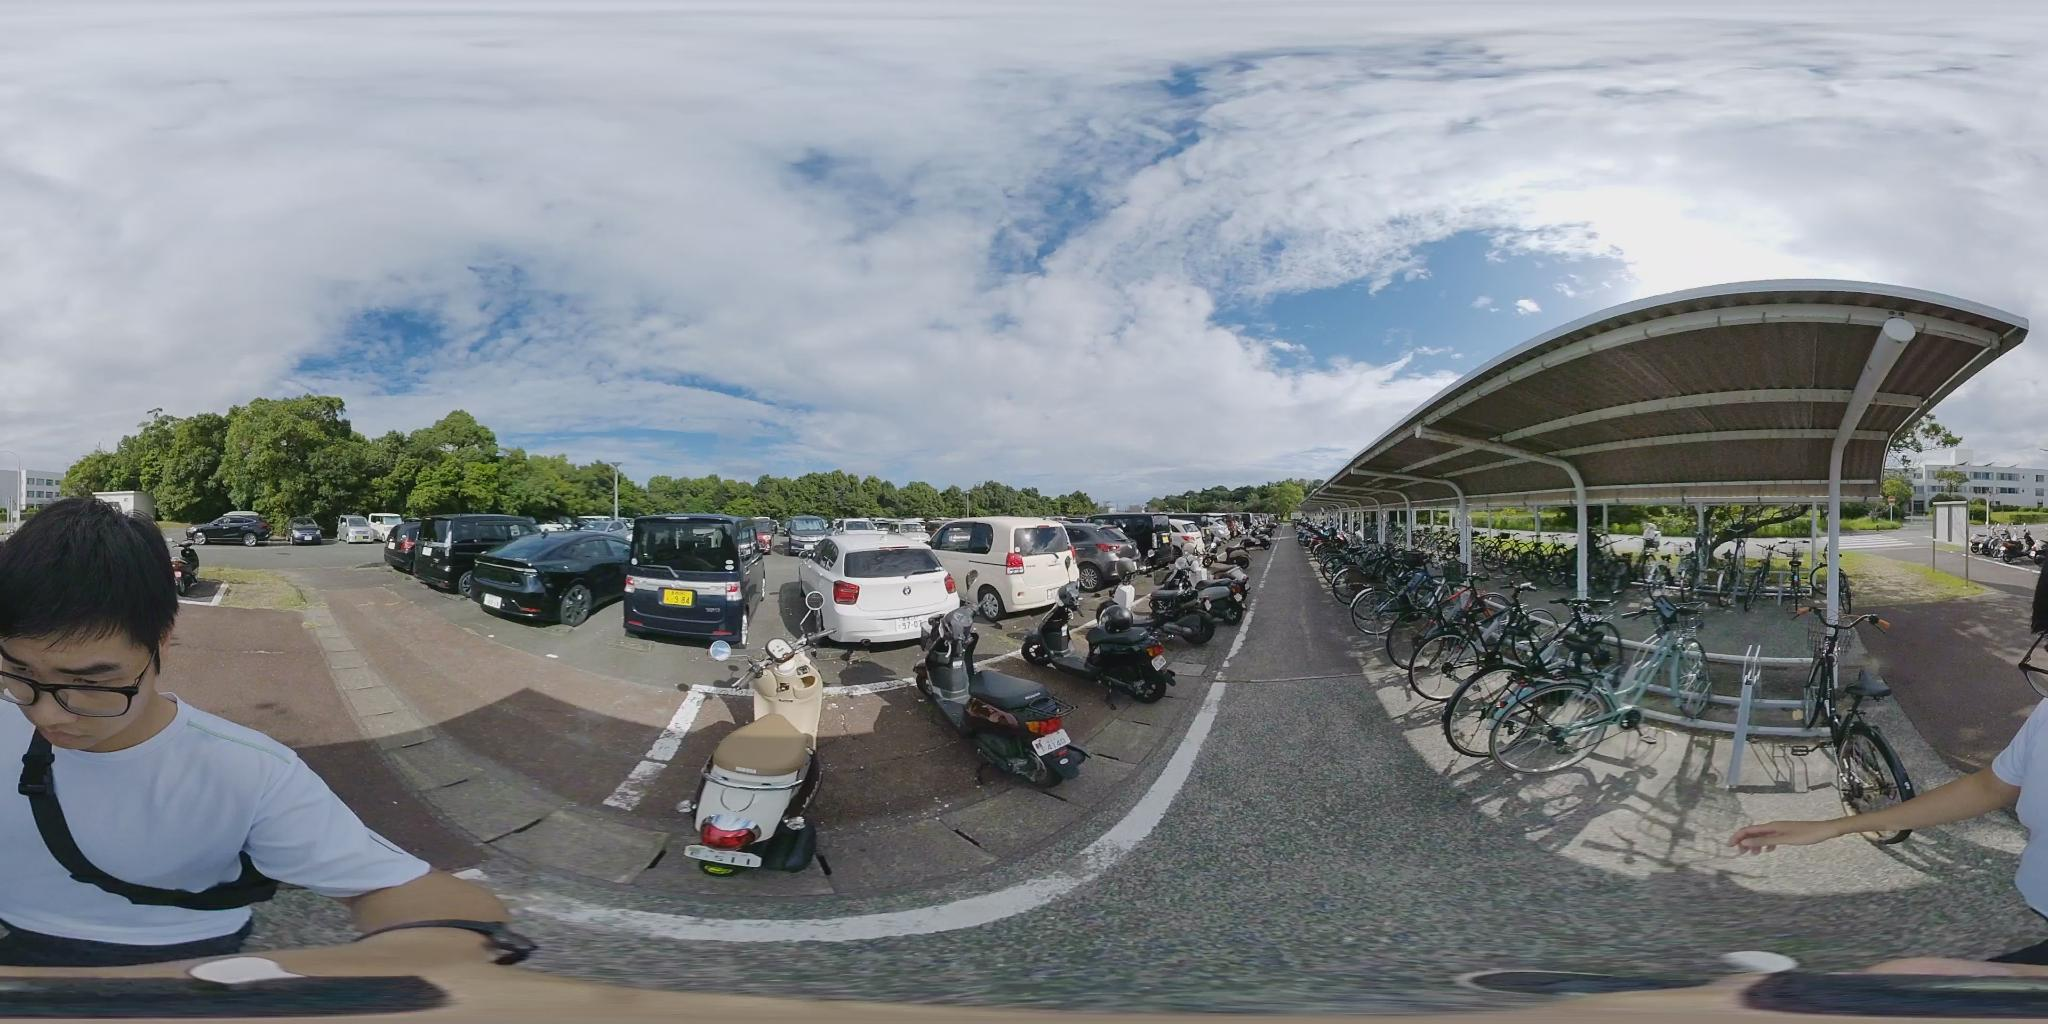car: (626, 516, 767, 647), (799, 533, 957, 645), (458, 532, 632, 630), (938, 516, 1071, 614), (388, 513, 538, 586), (199, 515, 264, 543), (350, 517, 409, 545), (293, 528, 328, 545)
